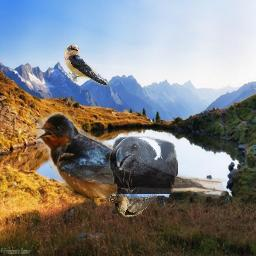Crow: (109, 136, 178, 194)
Swallow: (36, 112, 226, 198), (64, 42, 111, 87), (108, 192, 158, 219)
